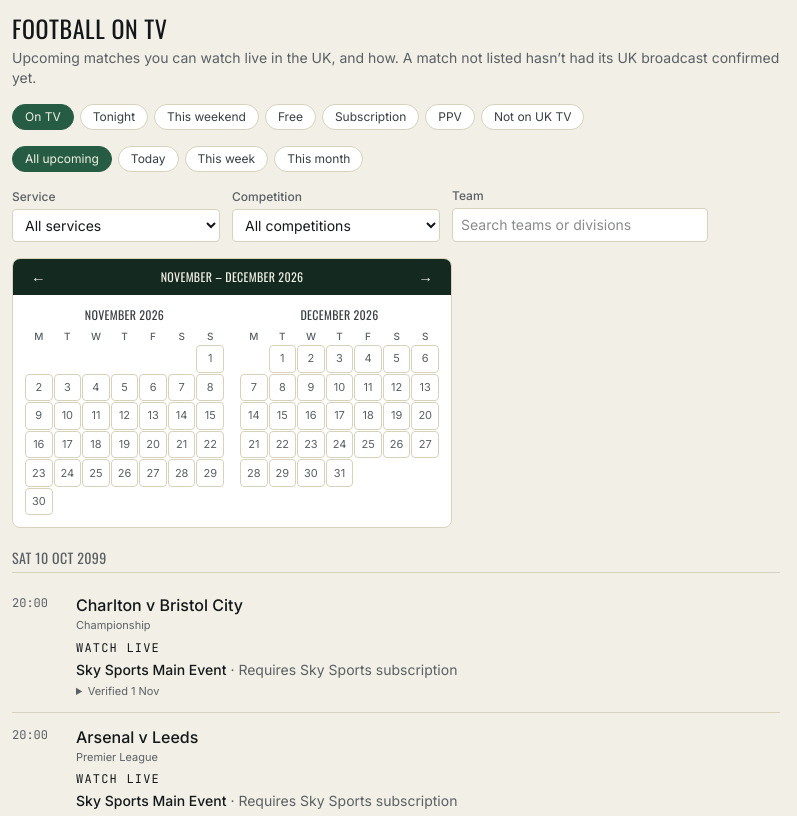
Test case: TvGuidePage -- UK Watch Guide › team picker groups clubs under country and division headings
Expected: the link "Arsenal v Leeds" is shown, left=76, top=727, right=198, bottom=747
Click the dropdown labelled "Team" at (580, 225), box left=453, top=209, right=707, bottom=241
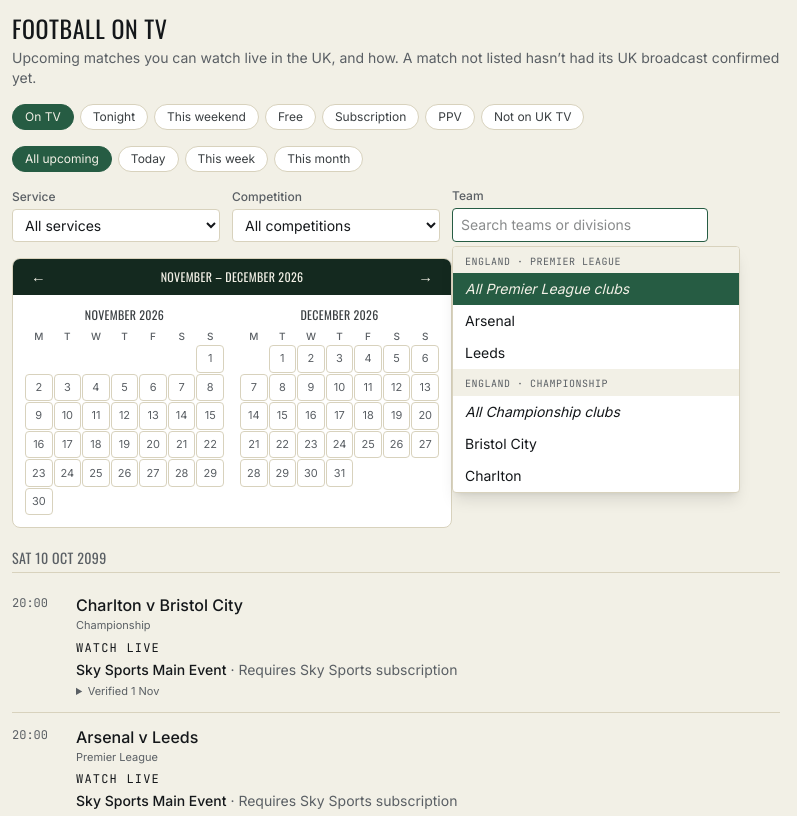
Expected: the text "England · Premier League" is shown, left=453, top=247, right=739, bottom=273
Expected: the text "England · Championship" is shown, left=453, top=369, right=739, bottom=396
